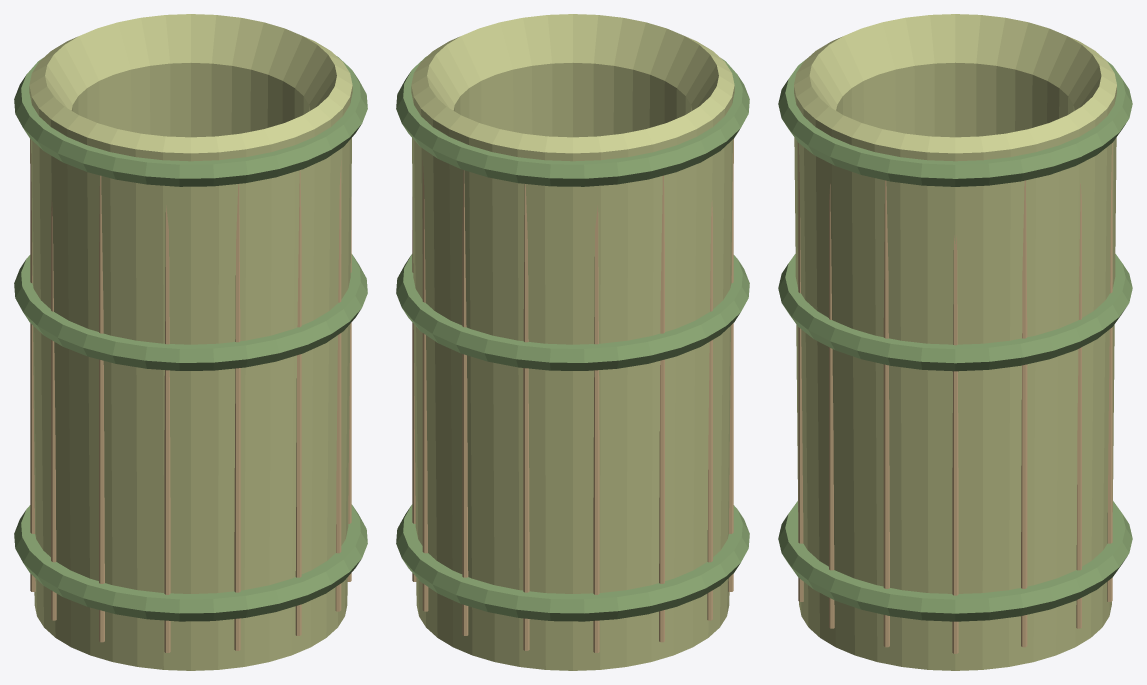
The model's file is bamboo_hanaire.glb.
The picture shows the model from 3 angles, left to right: view 1: azimuth 30°, elevation 25°; view 2: azimuth 150°, elevation 25°; view 3: azimuth 270°, elevation 25°; orthographic projection.
Parts seen in each view (by area): view 1: Bamboo flower tube, Natural bamboo joint, Natural bamboo joint.001, Natural bamboo joint.002, Bamboo fiber.010, Bamboo fiber.009, Bamboo fiber.011, Bamboo fiber.008, Bamboo fiber.012, Bamboo fiber.007, Bamboo fiber.006, Bamboo fiber.013; view 2: Bamboo flower tube, Natural bamboo joint, Natural bamboo joint.001, Natural bamboo joint.002, Bamboo fiber.004, Bamboo fiber.005, Bamboo fiber.003, Bamboo fiber.006, Bamboo fiber.002, Bamboo fiber.007, Bamboo fiber.008, Bamboo fiber.001; view 3: Bamboo flower tube, Natural bamboo joint, Natural bamboo joint.001, Natural bamboo joint.002, Bamboo fiber.001, Bamboo fiber.013, Bamboo fiber, Bamboo fiber.002, Bamboo fiber.012, Bamboo fiber.003, Bamboo fiber.011.
Boxes of the visible parts, bbox=[...] form: Bamboo flower tube: bbox=[29, 14, 352, 670]; Natural bamboo joint: bbox=[14, 504, 367, 621]; Natural bamboo joint.001: bbox=[14, 254, 367, 370]; Natural bamboo joint.002: bbox=[14, 56, 367, 186]; Bamboo fiber.010: bbox=[234, 184, 240, 650]; Bamboo fiber.009: bbox=[164, 205, 170, 652]; Bamboo fiber.011: bbox=[295, 170, 301, 635]; Bamboo fiber.008: bbox=[99, 175, 104, 642]; Bamboo fiber.012: bbox=[335, 160, 341, 611]; Bamboo fiber.007: bbox=[51, 200, 56, 620]; Bamboo fiber.006: bbox=[30, 139, 35, 591]; Bamboo fiber.013: bbox=[347, 197, 351, 581]; Bamboo flower tube: bbox=[411, 14, 734, 670]; Natural bamboo joint: bbox=[396, 504, 749, 621]; Natural bamboo joint.001: bbox=[396, 254, 749, 370]; Natural bamboo joint.002: bbox=[396, 56, 749, 186]; Bamboo fiber.004: bbox=[523, 184, 529, 650]; Bamboo fiber.005: bbox=[593, 205, 599, 652]; Bamboo fiber.003: bbox=[462, 170, 468, 635]; Bamboo fiber.006: bbox=[659, 175, 664, 642]; Bamboo fiber.002: bbox=[422, 160, 428, 611]; Bamboo fiber.007: bbox=[707, 200, 712, 620]; Bamboo fiber.008: bbox=[728, 139, 733, 591]; Bamboo fiber.001: bbox=[412, 197, 416, 581]; Bamboo flower tube: bbox=[794, 14, 1116, 670]; Natural bamboo joint: bbox=[778, 501, 1132, 621]; Natural bamboo joint.001: bbox=[778, 254, 1132, 371]; Natural bamboo joint.002: bbox=[778, 58, 1132, 186]; Bamboo fiber.001: bbox=[1021, 180, 1027, 647]; Bamboo fiber.013: bbox=[883, 180, 889, 647]; Bamboo fiber: bbox=[952, 235, 958, 653]; Bamboo fiber.002: bbox=[1076, 183, 1081, 628]; Bamboo fiber.012: bbox=[829, 183, 834, 628]; Bamboo fiber.003: bbox=[1107, 143, 1112, 601]; Bamboo fiber.011: bbox=[798, 143, 803, 601].
Bounding box in the file's own units: 1.16 × 1.95 × 1.16.
